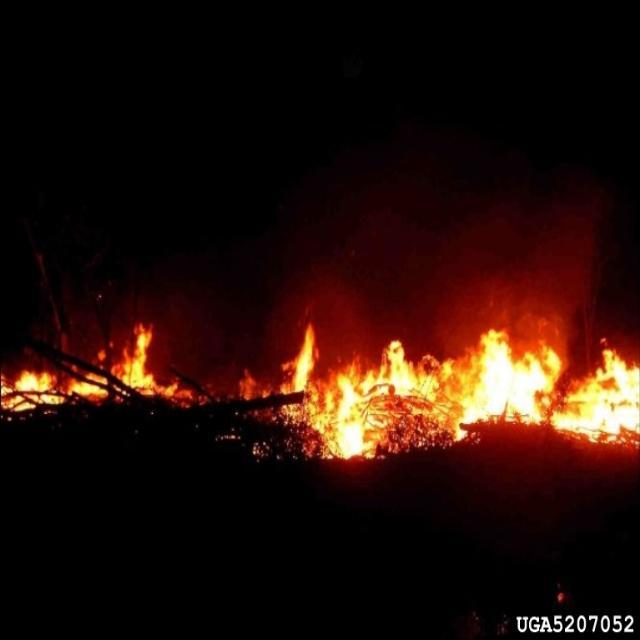Fire: (279, 319, 640, 463), (0, 318, 193, 415)
